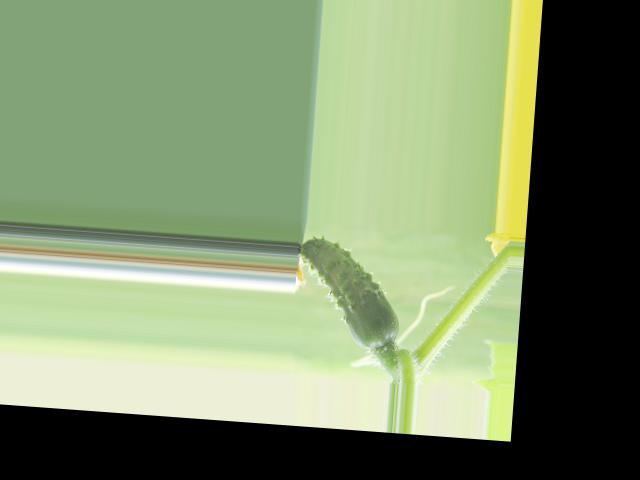cucumber: (294, 235, 407, 350)
